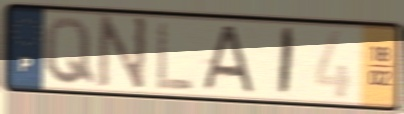4: (312, 27, 355, 102)
A: (196, 24, 258, 97)
I: (275, 25, 298, 99)
L: (154, 19, 196, 93)
N: (95, 13, 151, 95)
Q: (43, 14, 97, 87)
